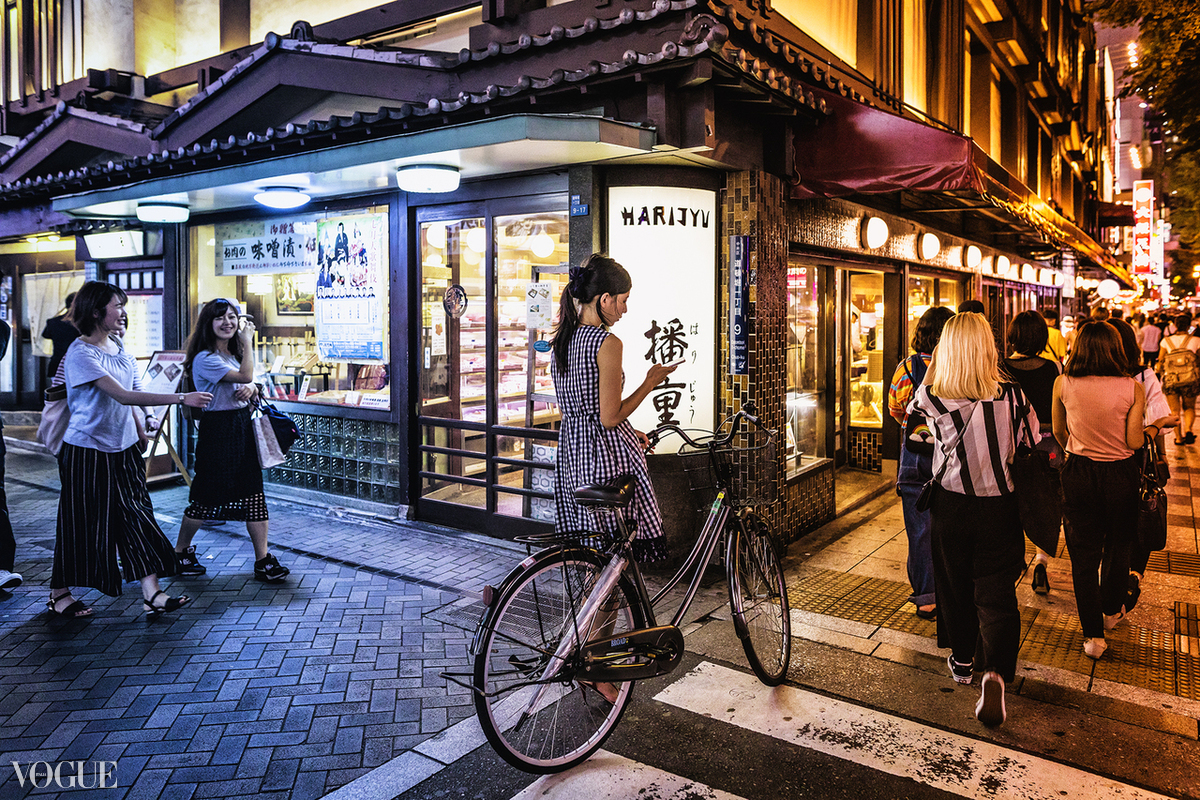person: (546, 252, 686, 713), (907, 314, 1045, 728), (45, 288, 194, 617), (170, 293, 292, 589), (1050, 323, 1145, 663), (998, 306, 1072, 611), (889, 300, 957, 627)
